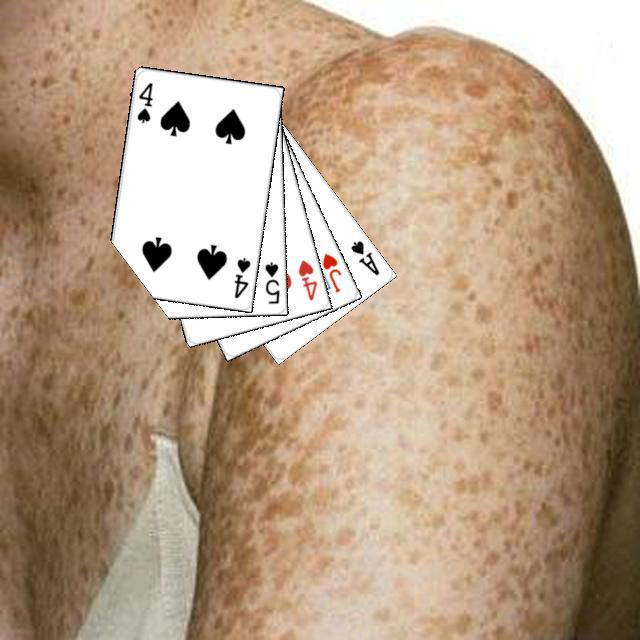4h: (293, 255, 319, 302)
4s: (229, 252, 252, 300), (132, 77, 155, 125)
5s: (260, 257, 281, 305)
As: (346, 236, 381, 277)
Jh: (317, 248, 343, 294)
